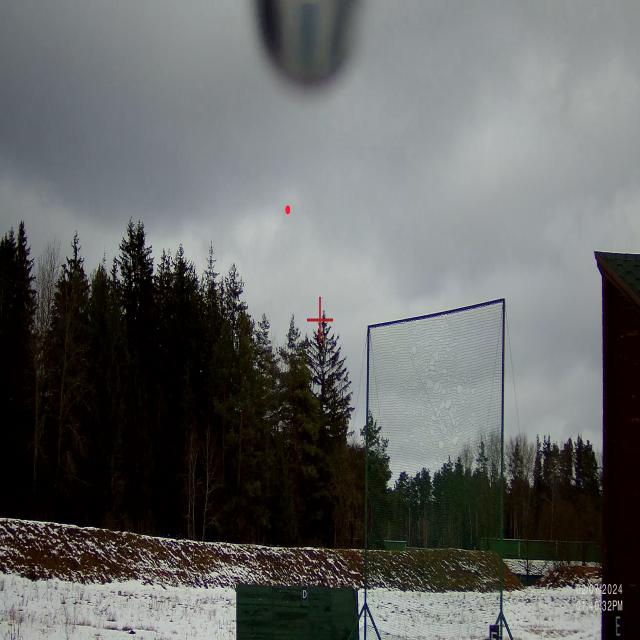entire: (277, 199, 296, 220)
